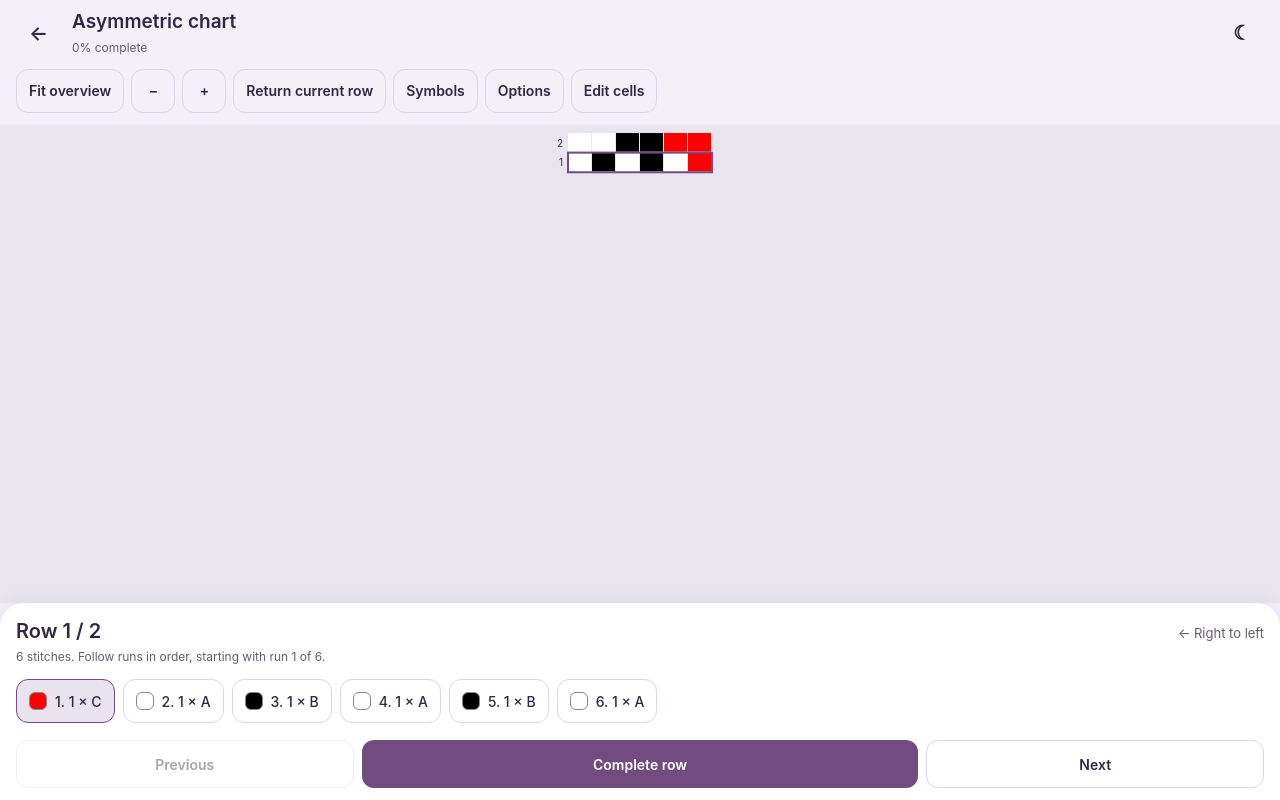
Test: chart reader interactions › keeps browsing behind Options and working controls in the bottom dock
Check: the number field labelled "Browse row" is not shown
Check: the button "Complete row" is shown, box [362,740,918,788]
Click the button "Options" at (524, 91), box [485,69,564,113]
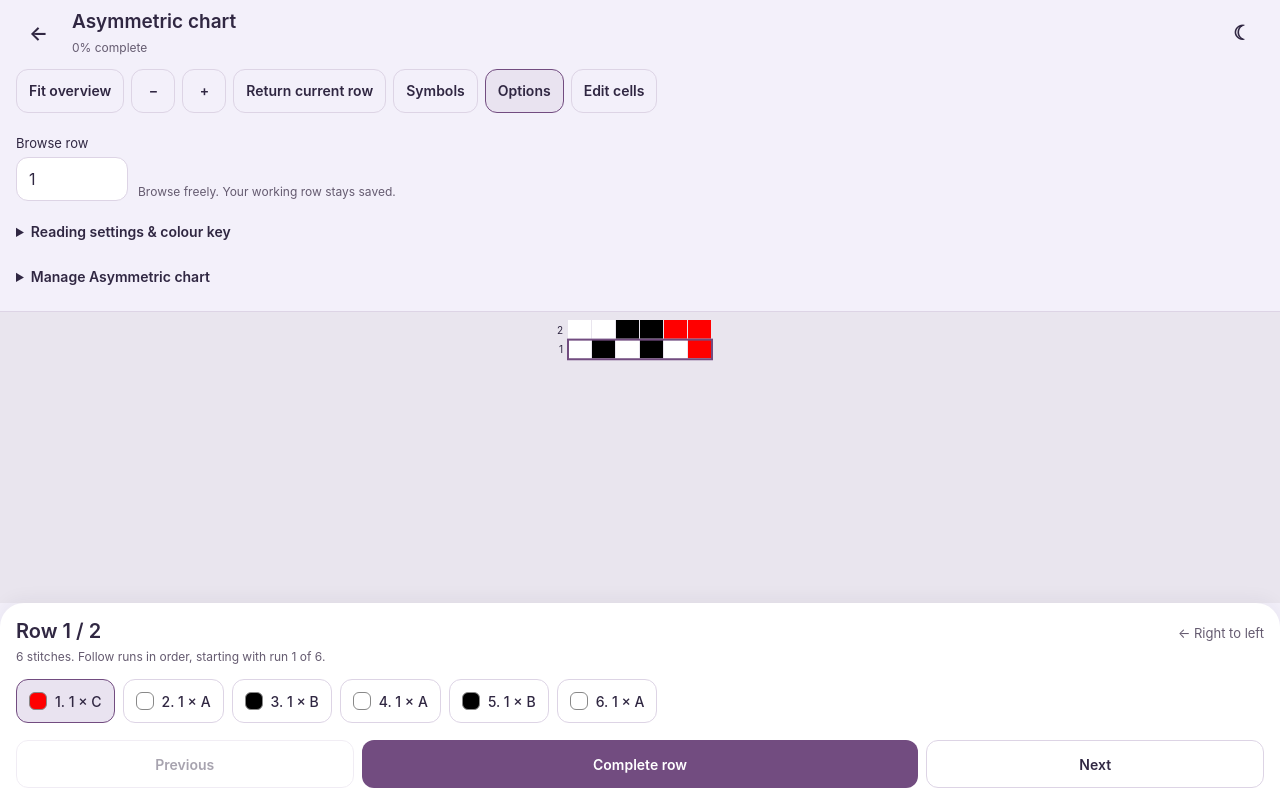
Check: the number field labelled "Browse row" is shown, box [16,157,128,201]
Click the button "Options" at (524, 91), box [485,69,564,113]
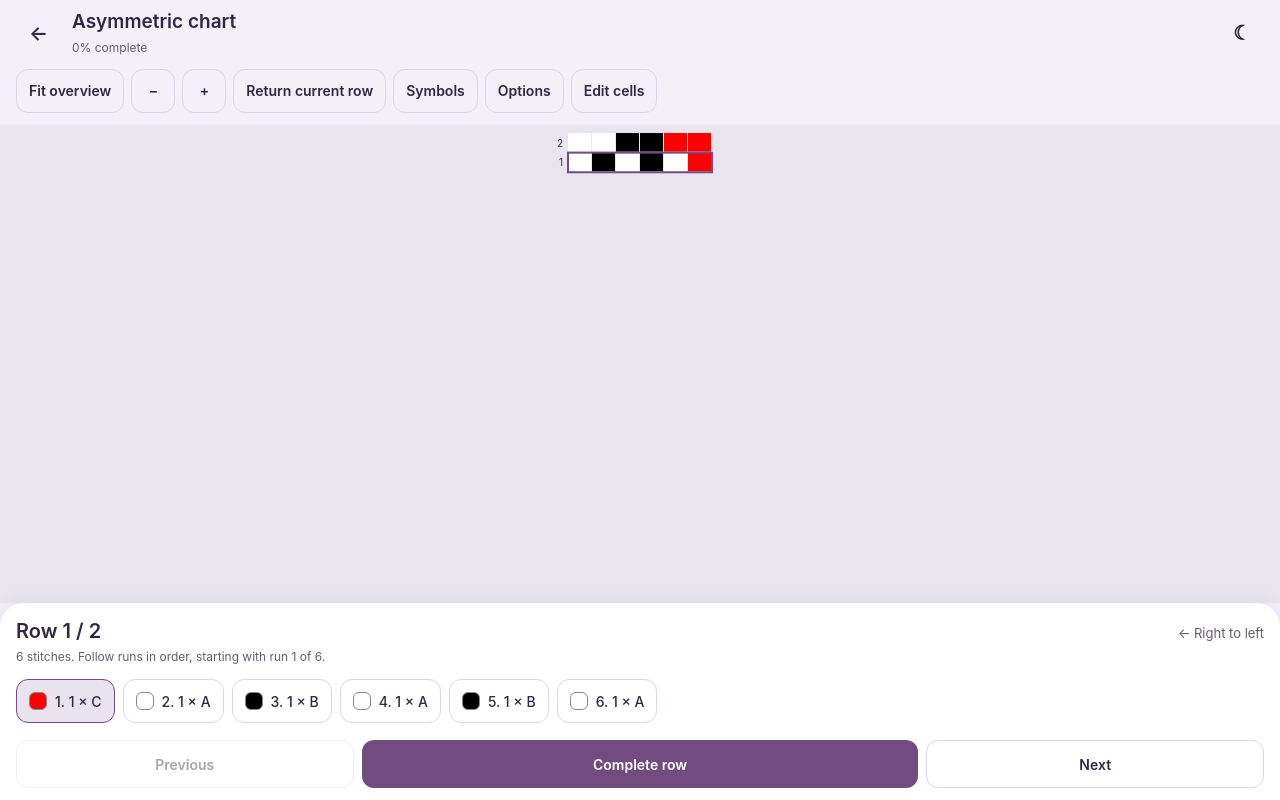
Check: the label "Browse row" is gone
